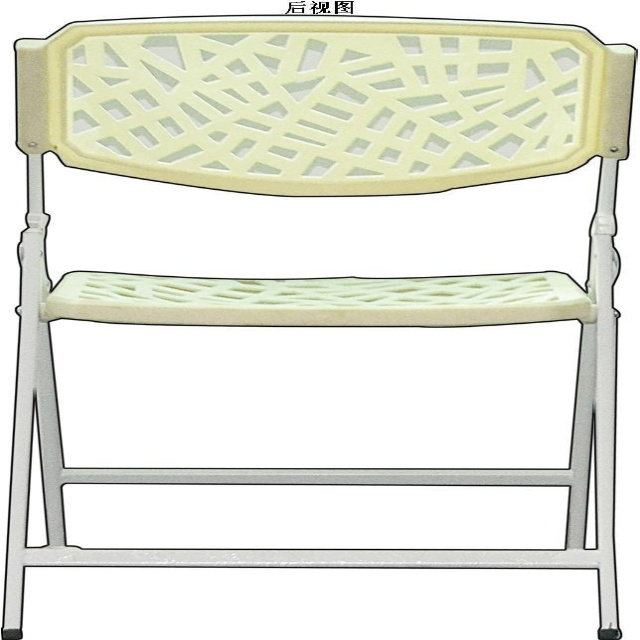obstacle: (4, 16, 634, 639)
